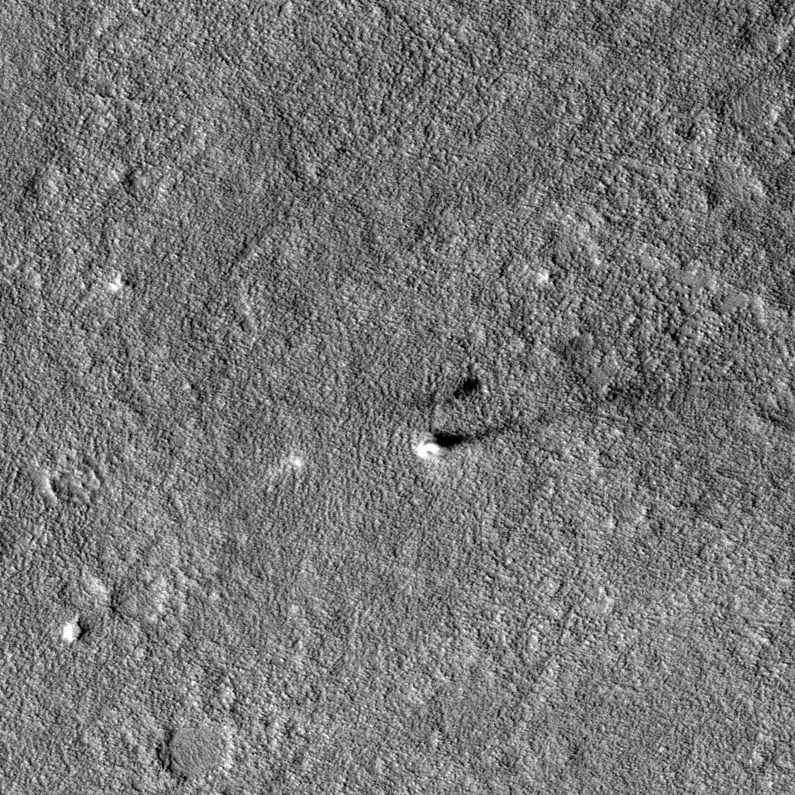dust_devil: (409, 414, 522, 464)
